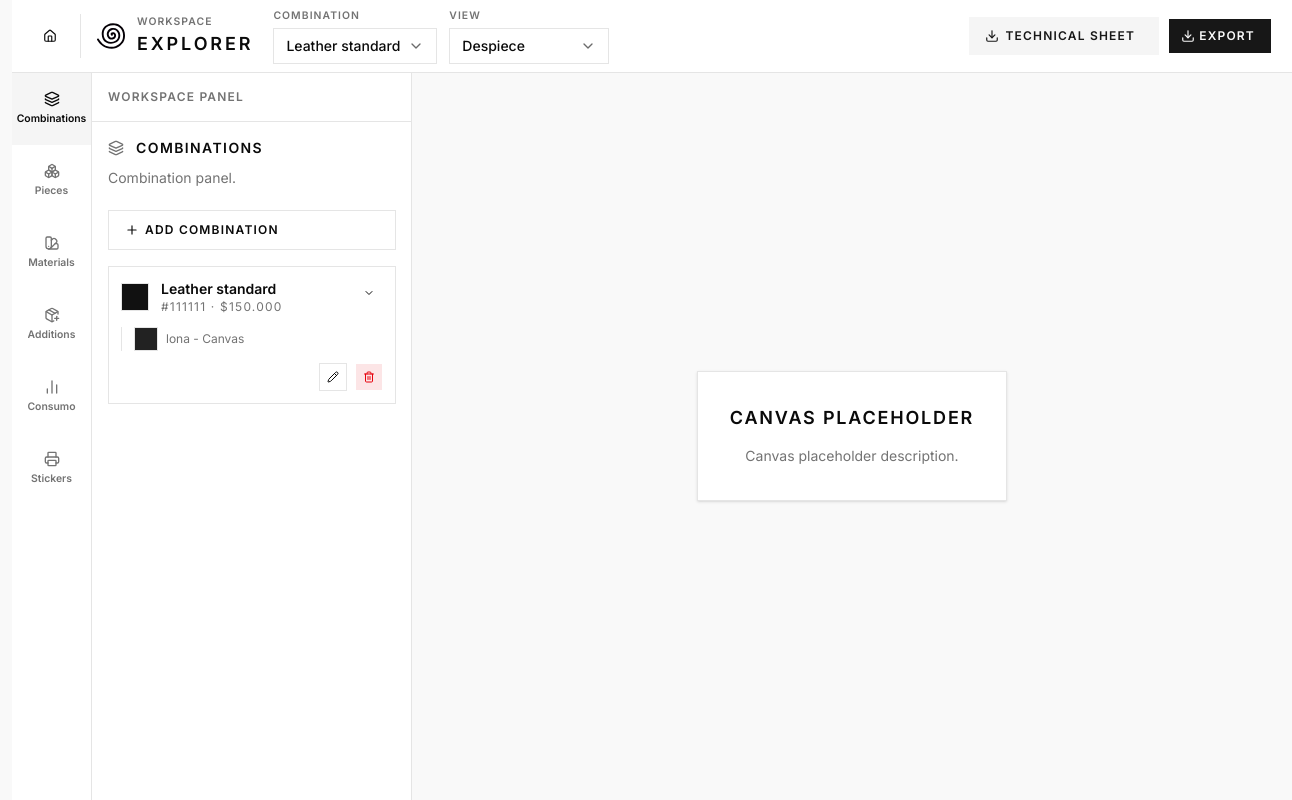
ProductWorkspace › switches to the production cut view without affecting the sidebar panel
The image size is (1292, 800).
Click the dropdown named "View" at (529, 46), box [449,28,609,64]
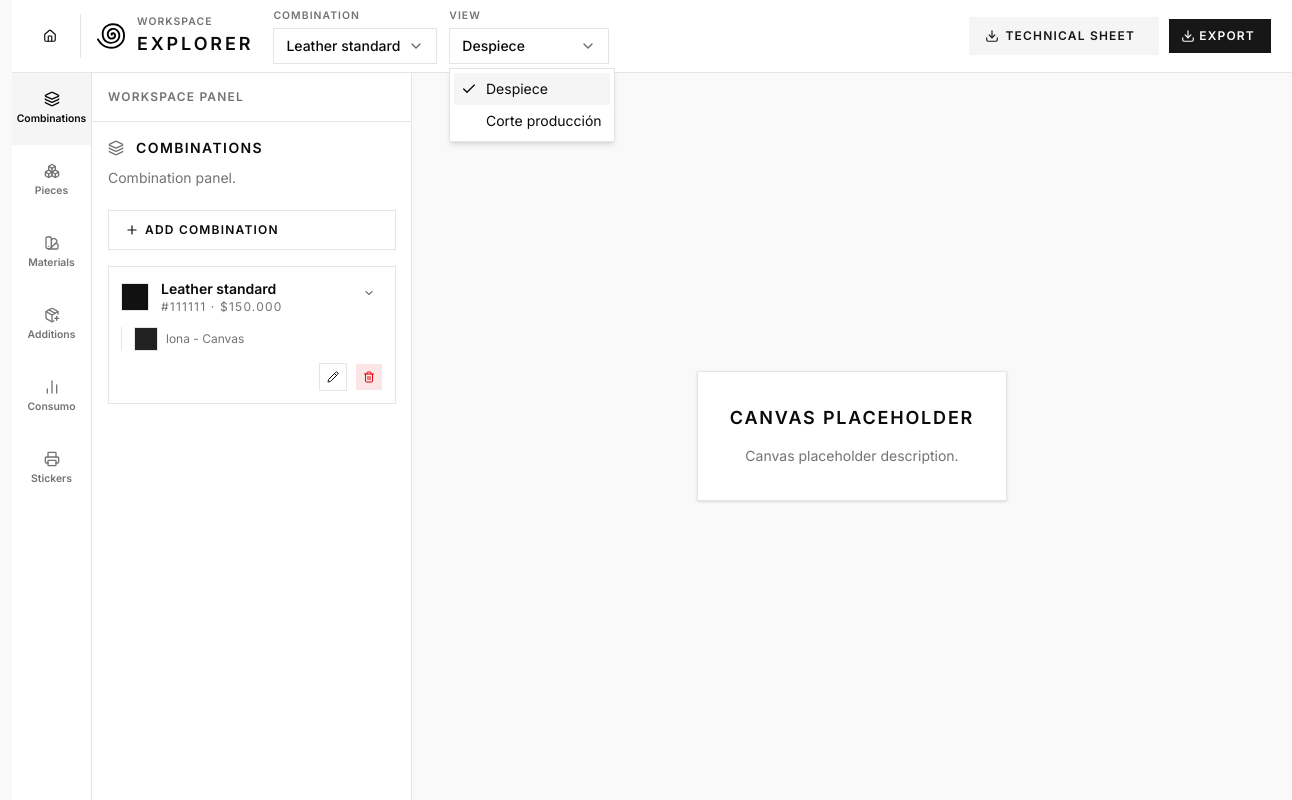
Click the option "Corte producción" at (544, 120), box [486,112,602,129]
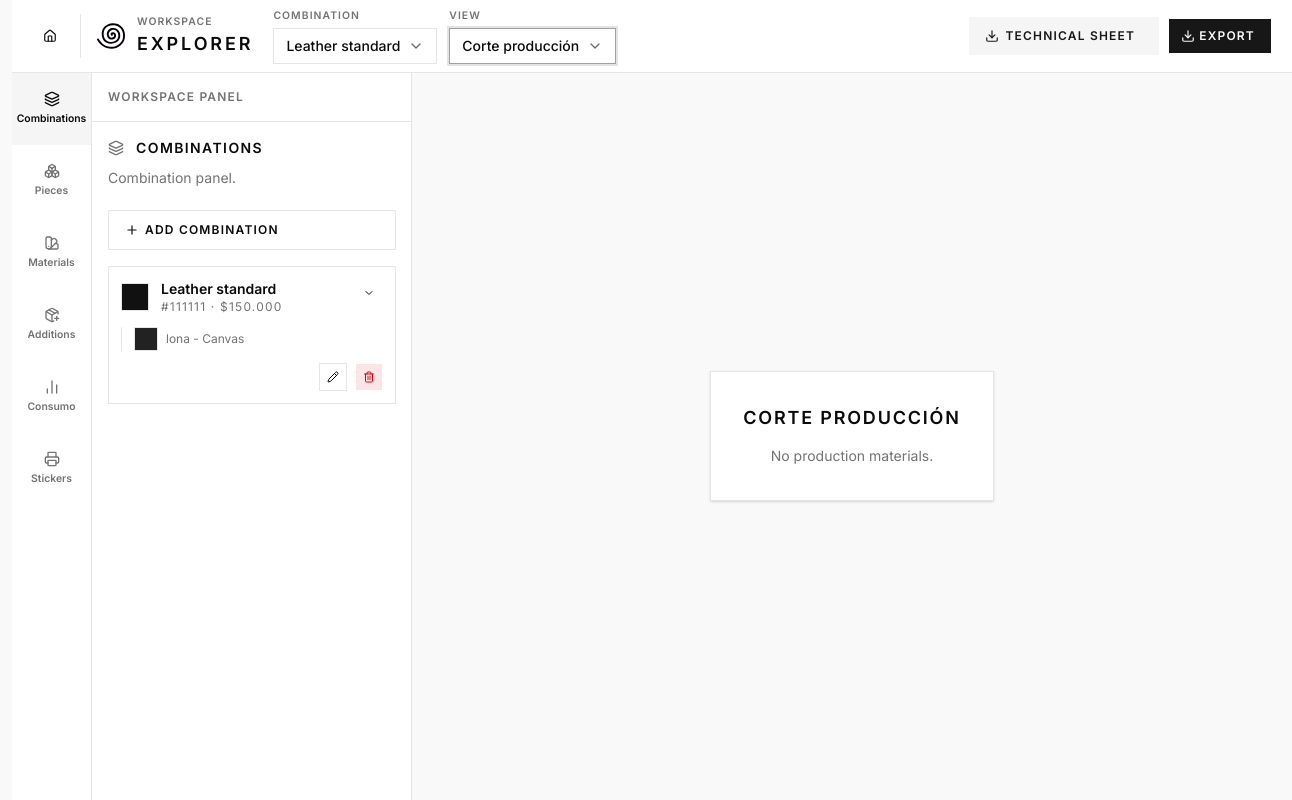
Expected: the heading "Combinations" is shown, [136,138,263,158]
Expected: the dropdown named "View" reads "Corte producción", [449,28,616,64]
Expected: the text "No production materials." is shown, [771,447,933,464]
